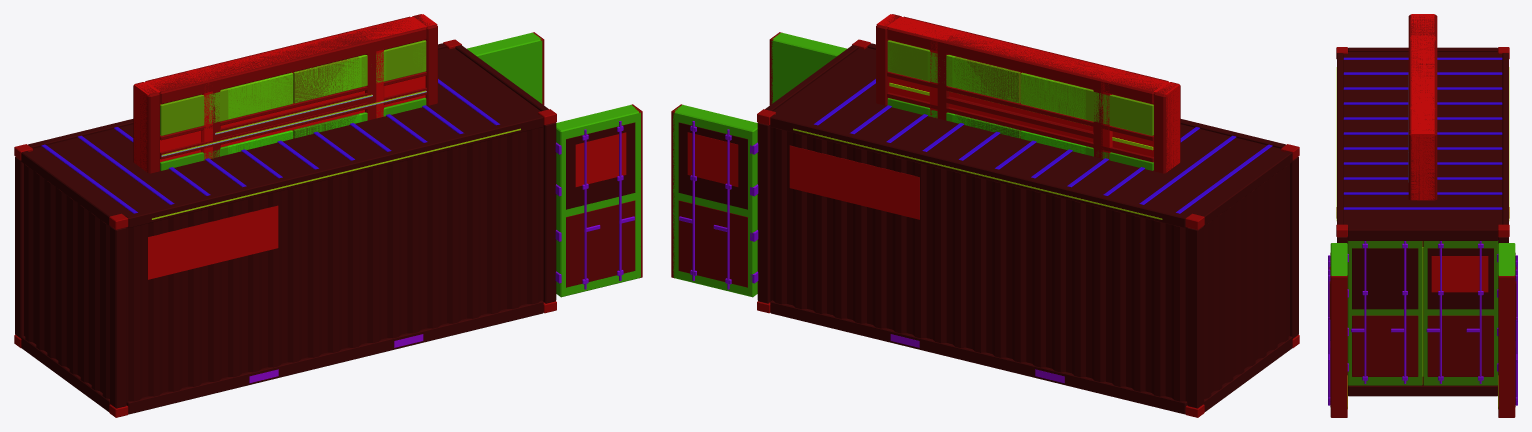
The model's file is kit.glb.
3 views of the same model, side by side, from view 1: azimuth 30°, elevation 25°; view 2: azimuth 150°, elevation 25°; view 3: azimuth 270°, elevation 25° (orthographic). The views are drawn at different scales.
Visible parts, largest first — view 1: container_6__lod0, container_6_open__lod0, wall_4__lod0, wall_4_door__lod0, wall_4_window__lod0; view 2: container_6__lod0, container_6_open__lod0, wall_4__lod0, wall_4_door__lod0, wall_4_window__lod0; view 3: container_6__lod0, container_6_open__lod0, wall_4__lod0, wall_4_window__lod0, wall_4_door__lod0.
Boxes of the visible parts, bbox=[...] form: container_6__lod0: bbox=[14, 39, 556, 417]; container_6_open__lod0: bbox=[24, 32, 642, 401]; wall_4__lod0: bbox=[133, 14, 437, 173]; wall_4_door__lod0: bbox=[135, 14, 435, 170]; wall_4_window__lod0: bbox=[135, 14, 436, 170]; container_6__lod0: bbox=[757, 39, 1299, 417]; container_6_open__lod0: bbox=[671, 32, 1289, 401]; wall_4__lod0: bbox=[876, 14, 1180, 173]; wall_4_door__lod0: bbox=[877, 14, 1176, 169]; wall_4_window__lod0: bbox=[877, 15, 1174, 169]; container_6__lod0: bbox=[1336, 47, 1509, 396]; container_6_open__lod0: bbox=[1328, 227, 1517, 417]; wall_4__lod0: bbox=[1408, 14, 1437, 200]; wall_4_window__lod0: bbox=[1408, 15, 1437, 133]; wall_4_door__lod0: bbox=[1408, 14, 1437, 152].
Bounding box in the file's own units: 7.24 × 3.6 × 2.68.
